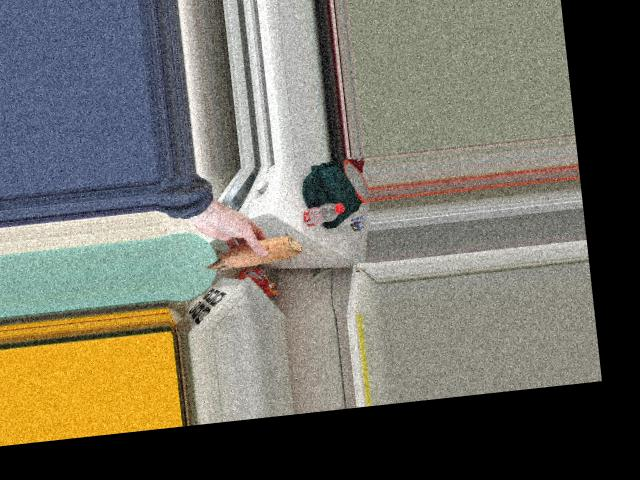sweet_potato: (205, 235, 297, 270)
